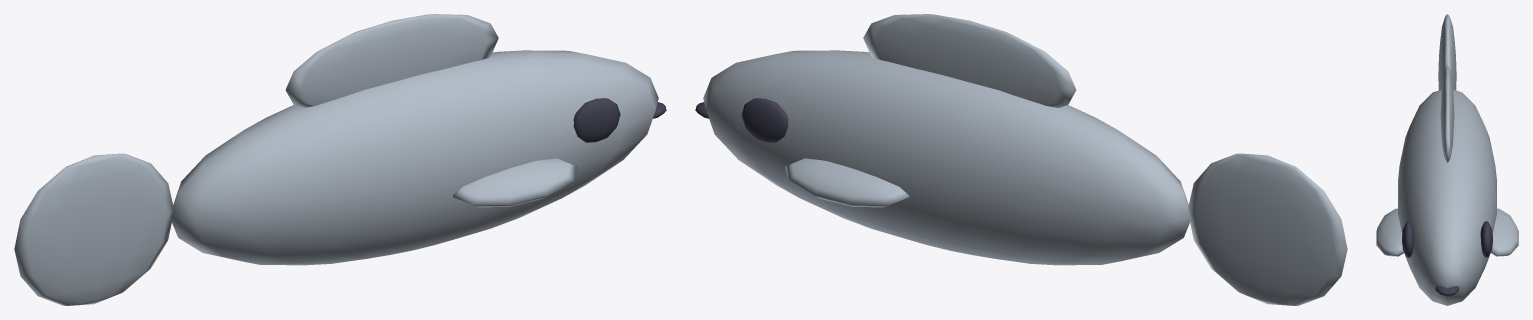
File: shark.glb
3 views of the same model, side by side, from view 1: azimuth 30°, elevation 25°; view 2: azimuth 150°, elevation 25°; view 3: azimuth 270°, elevation 25° (orthographic). The views are drawn at different scales.
Visible parts, largest first — view 1: Body, TailFin, DorsalFin, PectoralLeft, EyeLeft; view 2: Body, TailFin, DorsalFin, PectoralRight, EyeRight; view 3: Body, DorsalFin, PectoralLeft, PectoralRight, TailFin, EyeLeft, EyeRight, Mouth.
Part boxes in pixels (x1,y1,x2,y2): Body: (171,50,658,265); TailFin: (14,153,173,305); DorsalFin: (285,14,498,107); PectoralLeft: (452,158,576,207); EyeLeft: (573,98,620,142); Body: (703,50,1190,265); TailFin: (1188,153,1347,305); DorsalFin: (863,14,1076,107); PectoralRight: (785,158,909,207); EyeRight: (741,98,788,142); Body: (1398,89,1496,305); DorsalFin: (1440,65,1454,162); PectoralLeft: (1376,208,1403,256); PectoralRight: (1491,208,1518,256); TailFin: (1438,14,1456,90); EyeLeft: (1402,221,1414,257); EyeRight: (1480,221,1492,257); Mouth: (1435,286,1459,296).
Size of the model in its own units: 2.2 by 0.74 by 0.5595.
